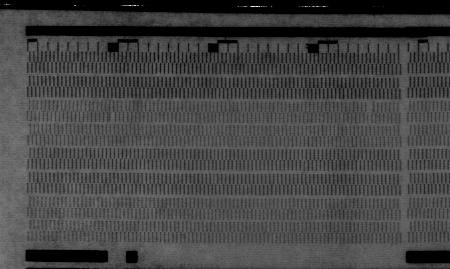Broken hole: (364, 100, 377, 114)
Oblique printing: (106, 111, 118, 124)
